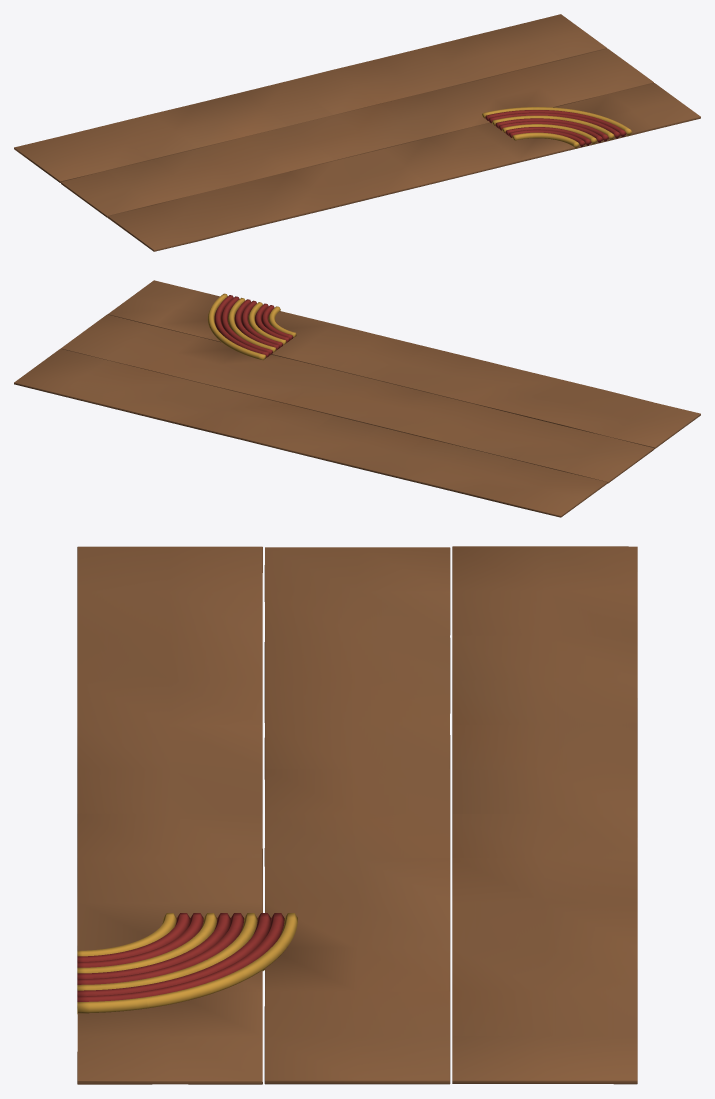
The model's file is ember_room_floor.glb.
The picture shows the model from 3 angles, top to bottom: view 1: azimuth 30°, elevation 25°; view 2: azimuth 150°, elevation 25°; view 3: azimuth 270°, elevation 25°; orthographic projection. The views are drawn at different scales.
Parts seen in each view (by area): view 1: ember_room_floor; view 2: ember_room_floor; view 3: ember_room_floor.
Part boxes in pixels (box(x1,y1,x2,y2)): ember_room_floor: box(14, 14, 700, 251); ember_room_floor: box(14, 280, 700, 517); ember_room_floor: box(77, 546, 637, 1084).
Size of the model in its own units: 300 by 3.12 by 133.
